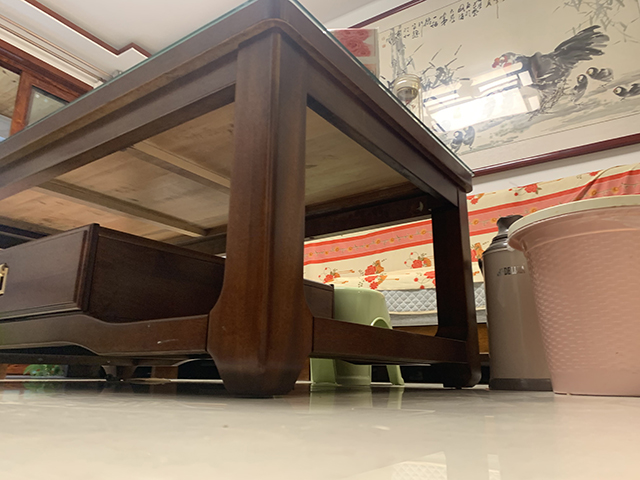stool: (312, 285, 405, 388)
table: (1, 1, 483, 399)
trashcan: (507, 193, 640, 397)
